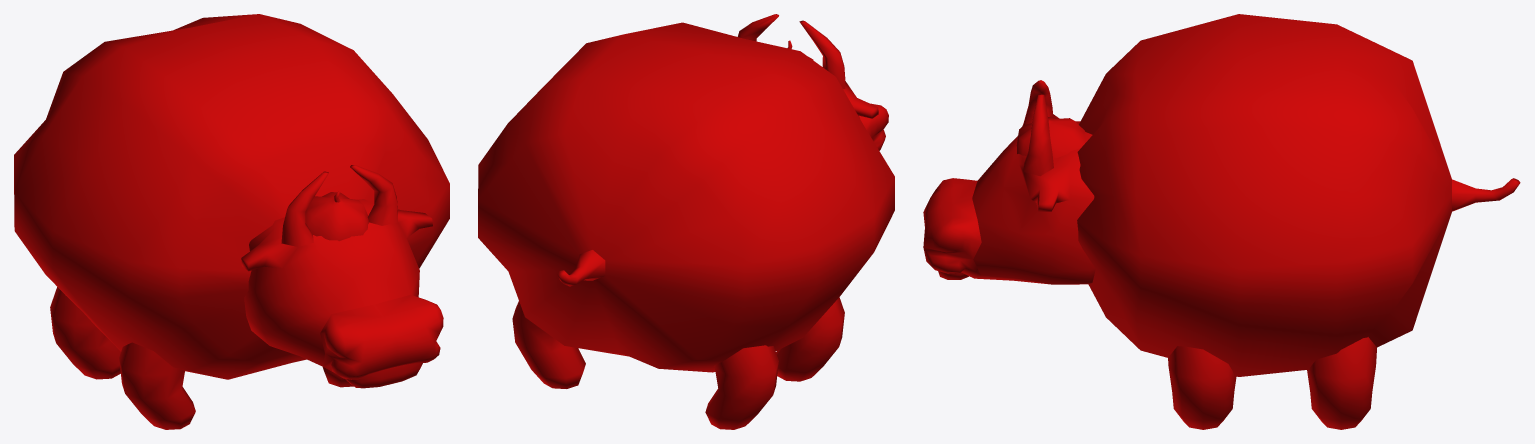
Rendered from cow.fbx.
3 views of the same model, side by side, from view 1: azimuth 30°, elevation 25°; view 2: azimuth 150°, elevation 25°; view 3: azimuth 270°, elevation 25° (orthographic). The views are drawn at different scales.
Parts seen in each view (by area): view 1: pumpking, head, leg, upmouth, horn, hat, downmouth; view 2: pumpking, leg, horn, tail, upmouth, head; view 3: pumpking, head, leg, upmouth, horn, hat, tail.
Boxes of the visible parts, box(x1,y1,x2,y2) form: pumpking: box(14, 14, 449, 379); head: box(241, 199, 432, 366); leg: box(50, 287, 353, 429); upmouth: box(320, 295, 443, 379); horn: box(281, 165, 397, 246); hat: box(305, 192, 368, 241); downmouth: box(345, 363, 422, 388); pumpking: box(478, 22, 894, 372); leg: box(512, 297, 844, 429); horn: box(737, 14, 845, 88); tail: box(557, 250, 605, 286); upmouth: box(859, 103, 888, 150); head: box(843, 81, 878, 118); pumpking: box(1077, 14, 1451, 376); head: box(972, 114, 1095, 284); leg: box(1168, 337, 1376, 429); upmouth: box(923, 178, 981, 278); horn: box(1023, 80, 1053, 176); hat: box(1016, 116, 1085, 158); tail: box(1452, 178, 1520, 211).
Size of the model in its own units: 211 by 178 by 291.
